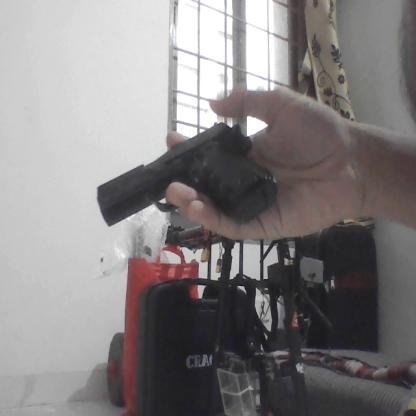handgun: (95, 122, 279, 230)
